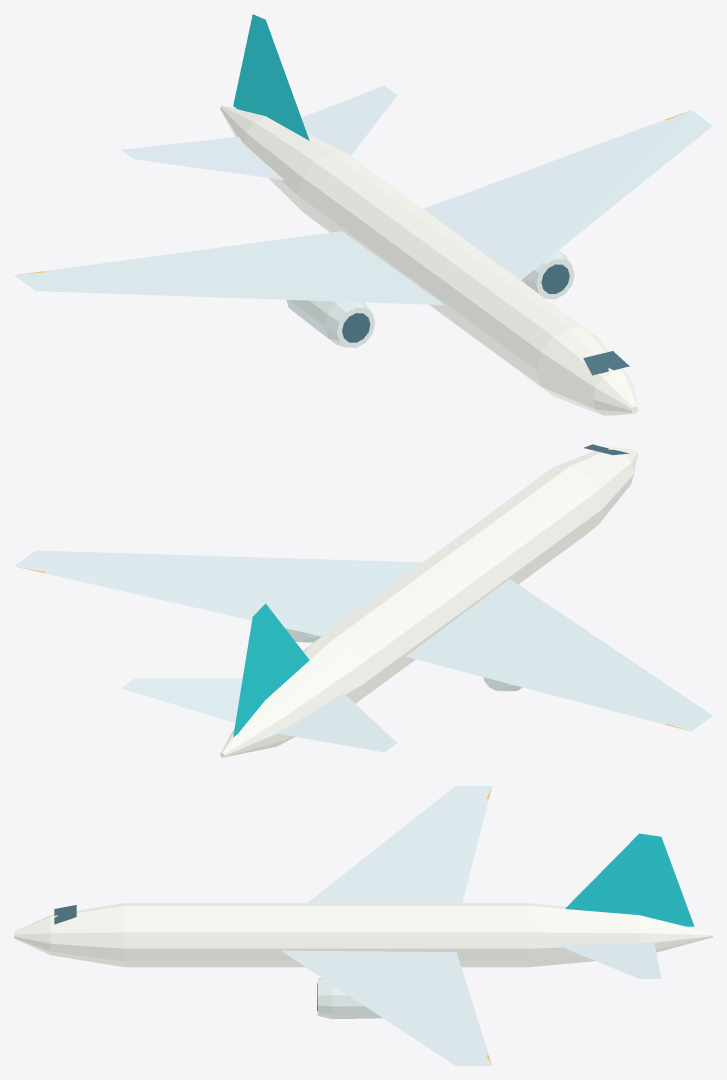
Rendered from jet.glb.
The picture shows the model from 3 angles, top to bottom: view 1: azimuth 30°, elevation 25°; view 2: azimuth 150°, elevation 25°; view 3: azimuth 270°, elevation 25°; orthographic projection. The views are drawn at different scales.
Bounding box in the file's own units: 36 × 8.55 × 38.
